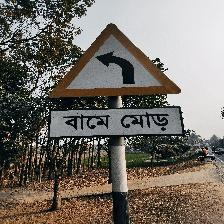Left-Turn: (43, 22, 183, 139)
